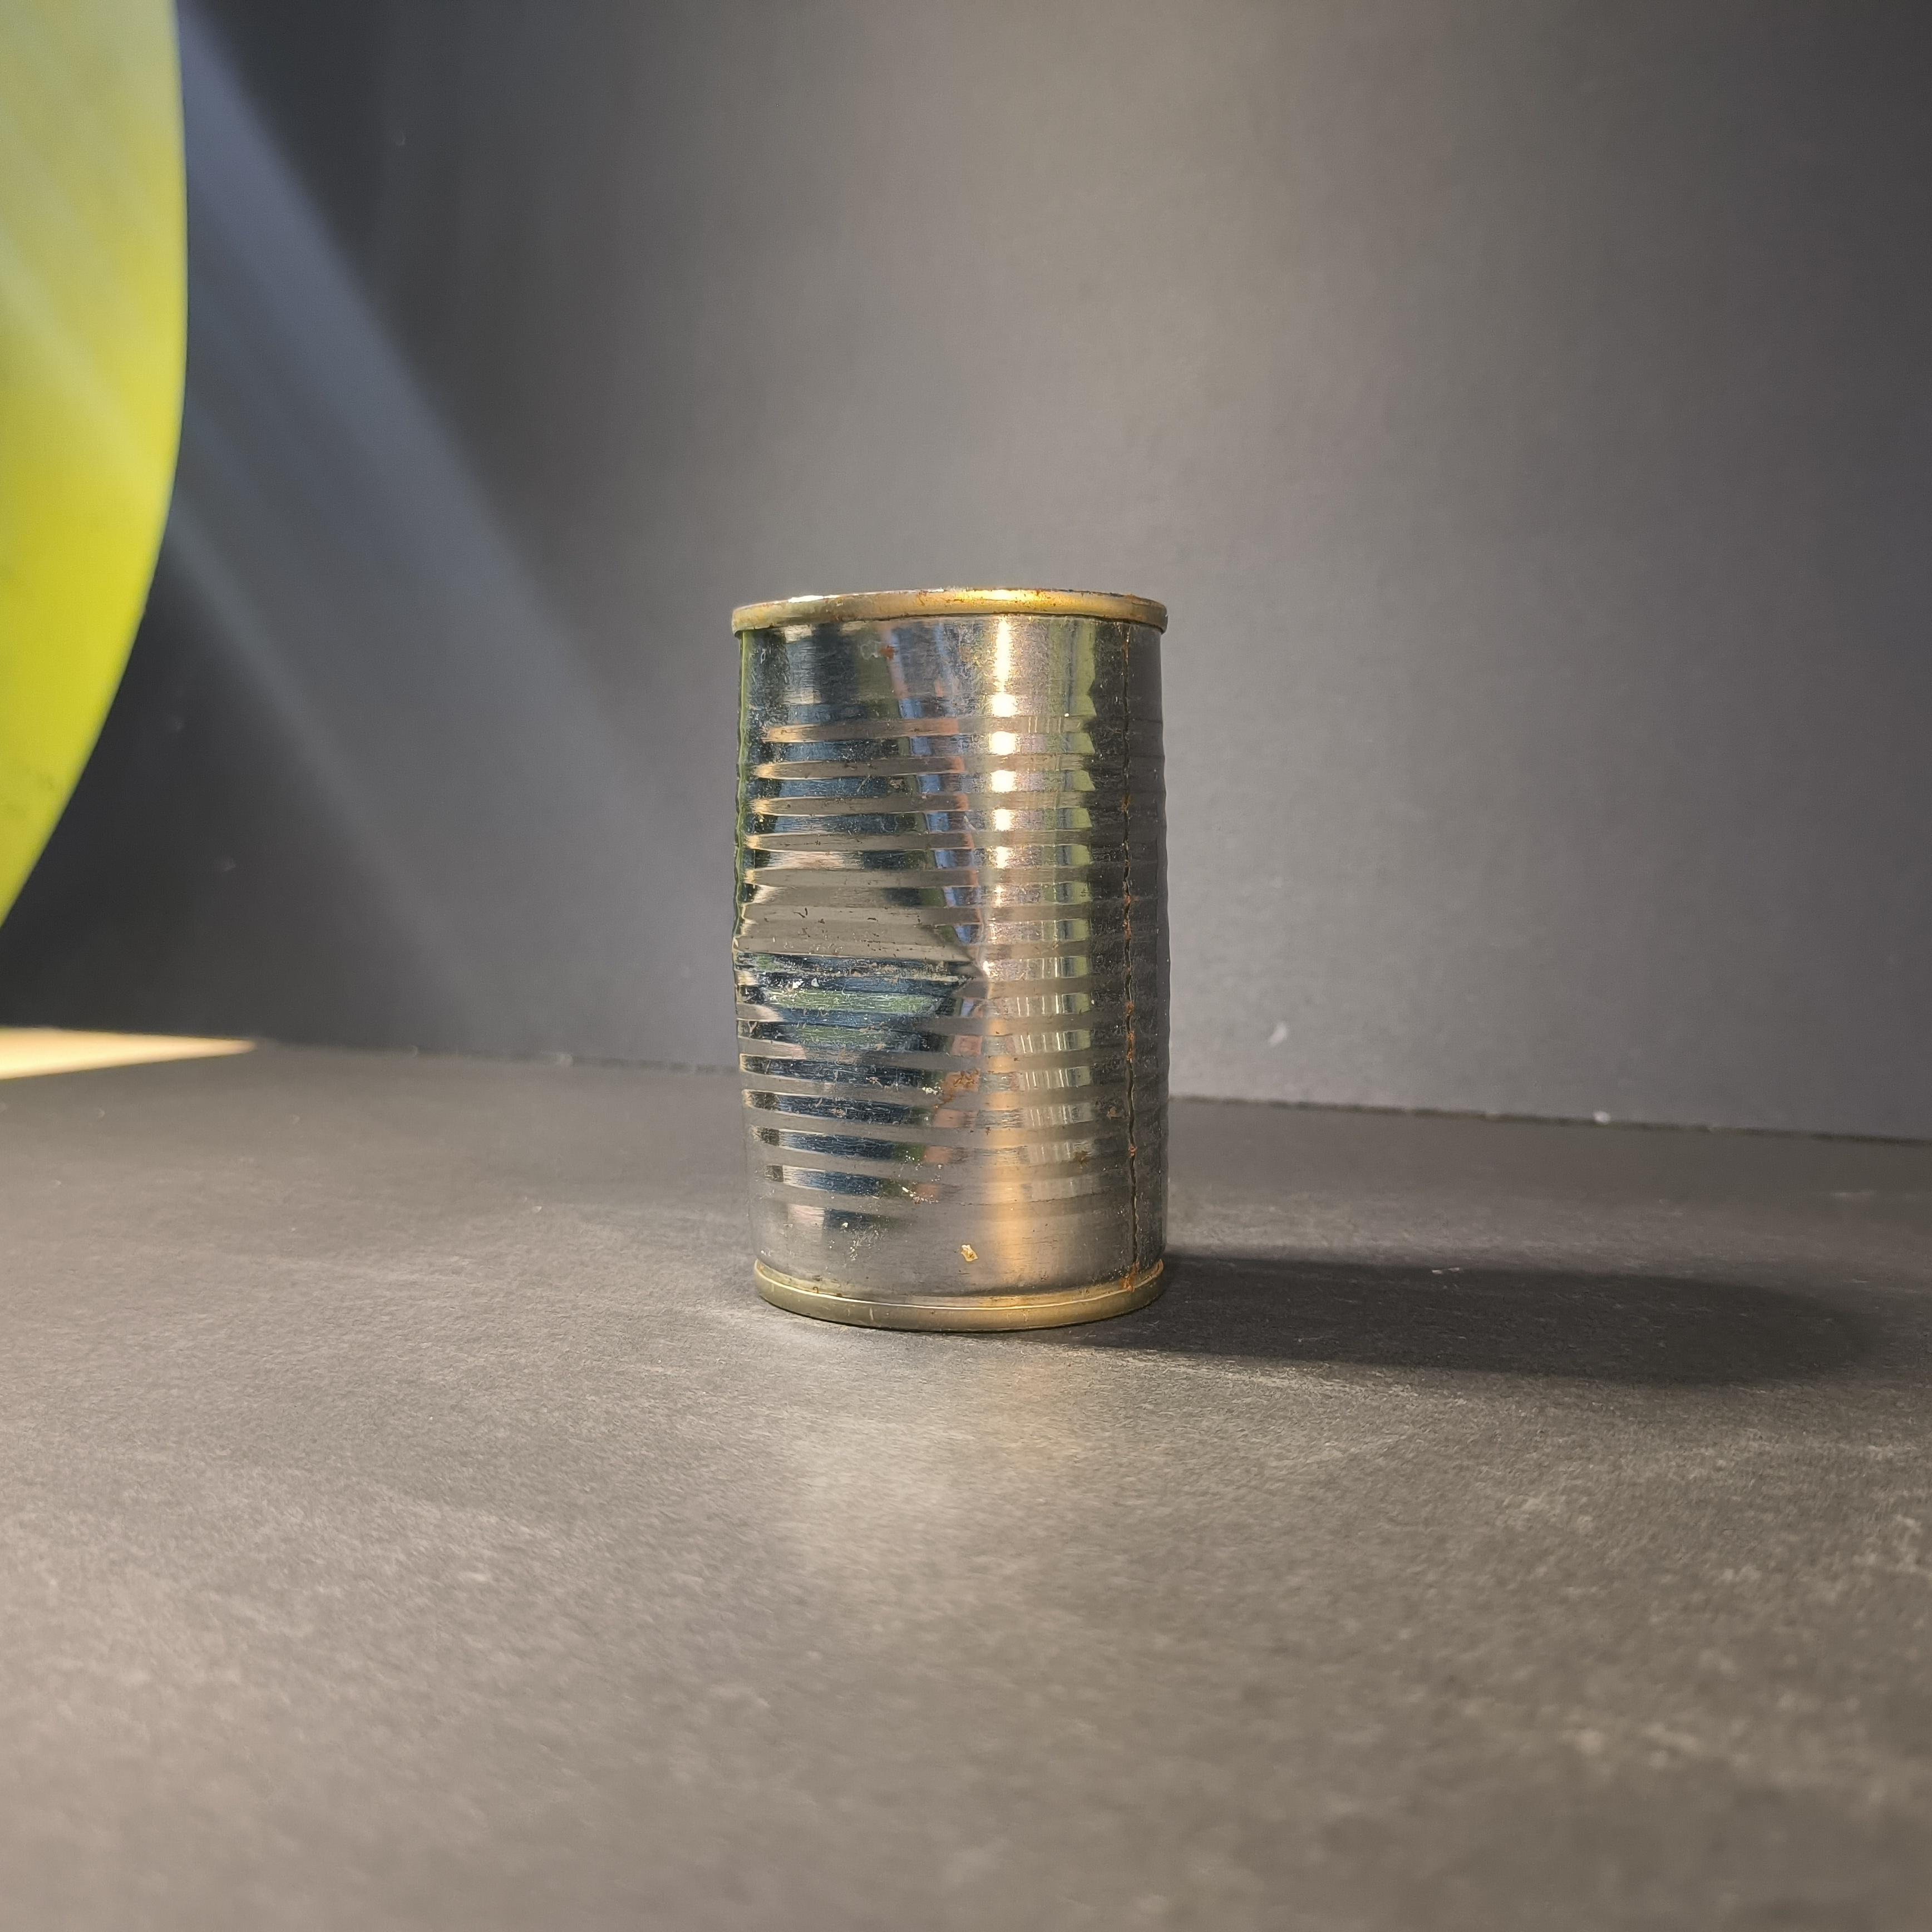Dented: (701, 554, 1215, 1355)
